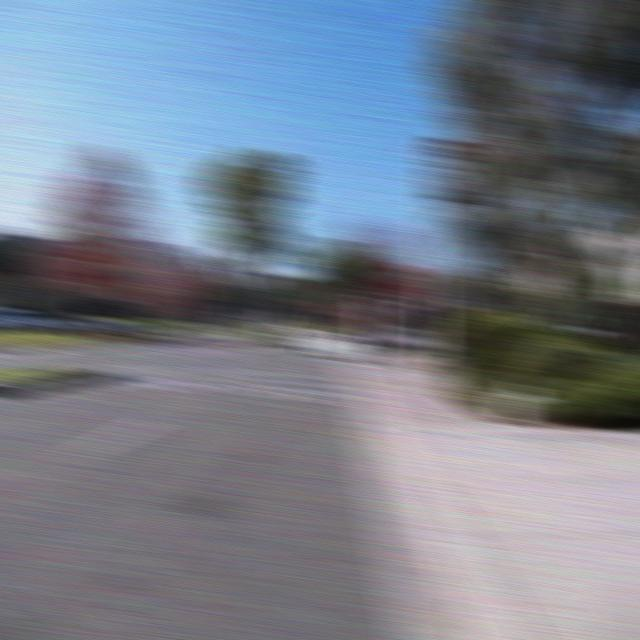stop: (59, 246, 103, 285), (379, 260, 423, 298)
